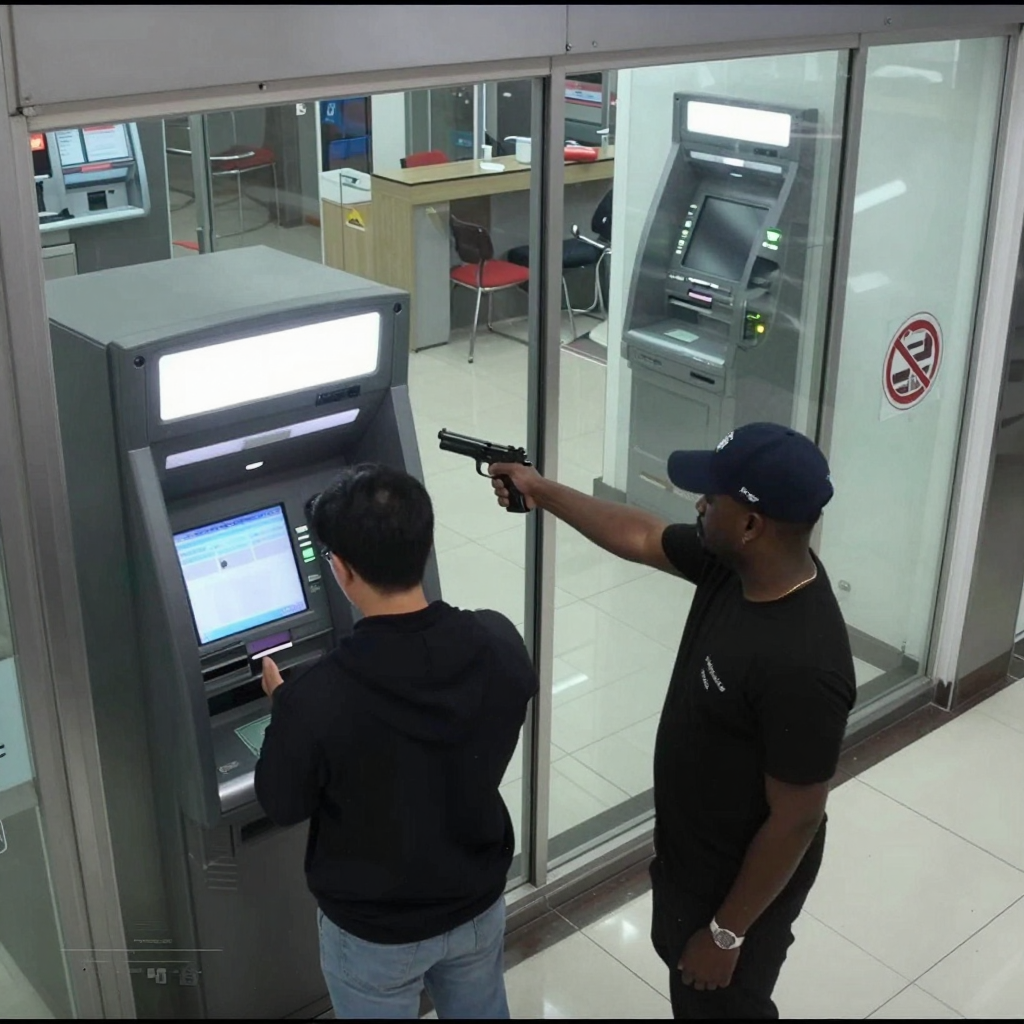Robbery: (488, 421, 858, 1020), (253, 461, 541, 1020)
Shooting: (438, 428, 535, 514)
